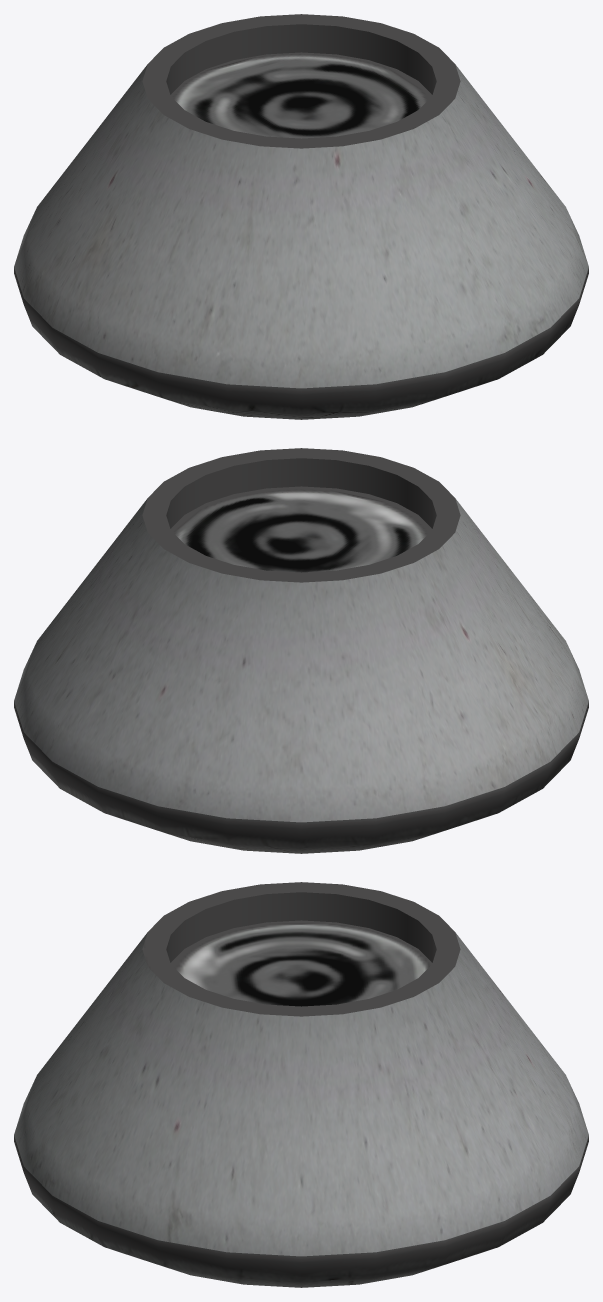
Rendered from aeroshell.dae.
The picture shows the model from 3 angles, top to bottom: view 1: azimuth 30°, elevation 25°; view 2: azimuth 150°, elevation 25°; view 3: azimuth 270°, elevation 25°; orthographic projection.
Visible parts, largest first — view 1: shell; view 2: shell; view 3: shell.
Part boxes in pixels (<box>): shell: <box>14,14,588,419</box>; shell: <box>14,448,588,853</box>; shell: <box>14,882,588,1287</box>.
Size of what is drawn, in the model's own units: 0.8633 by 0.4306 by 0.8633.
